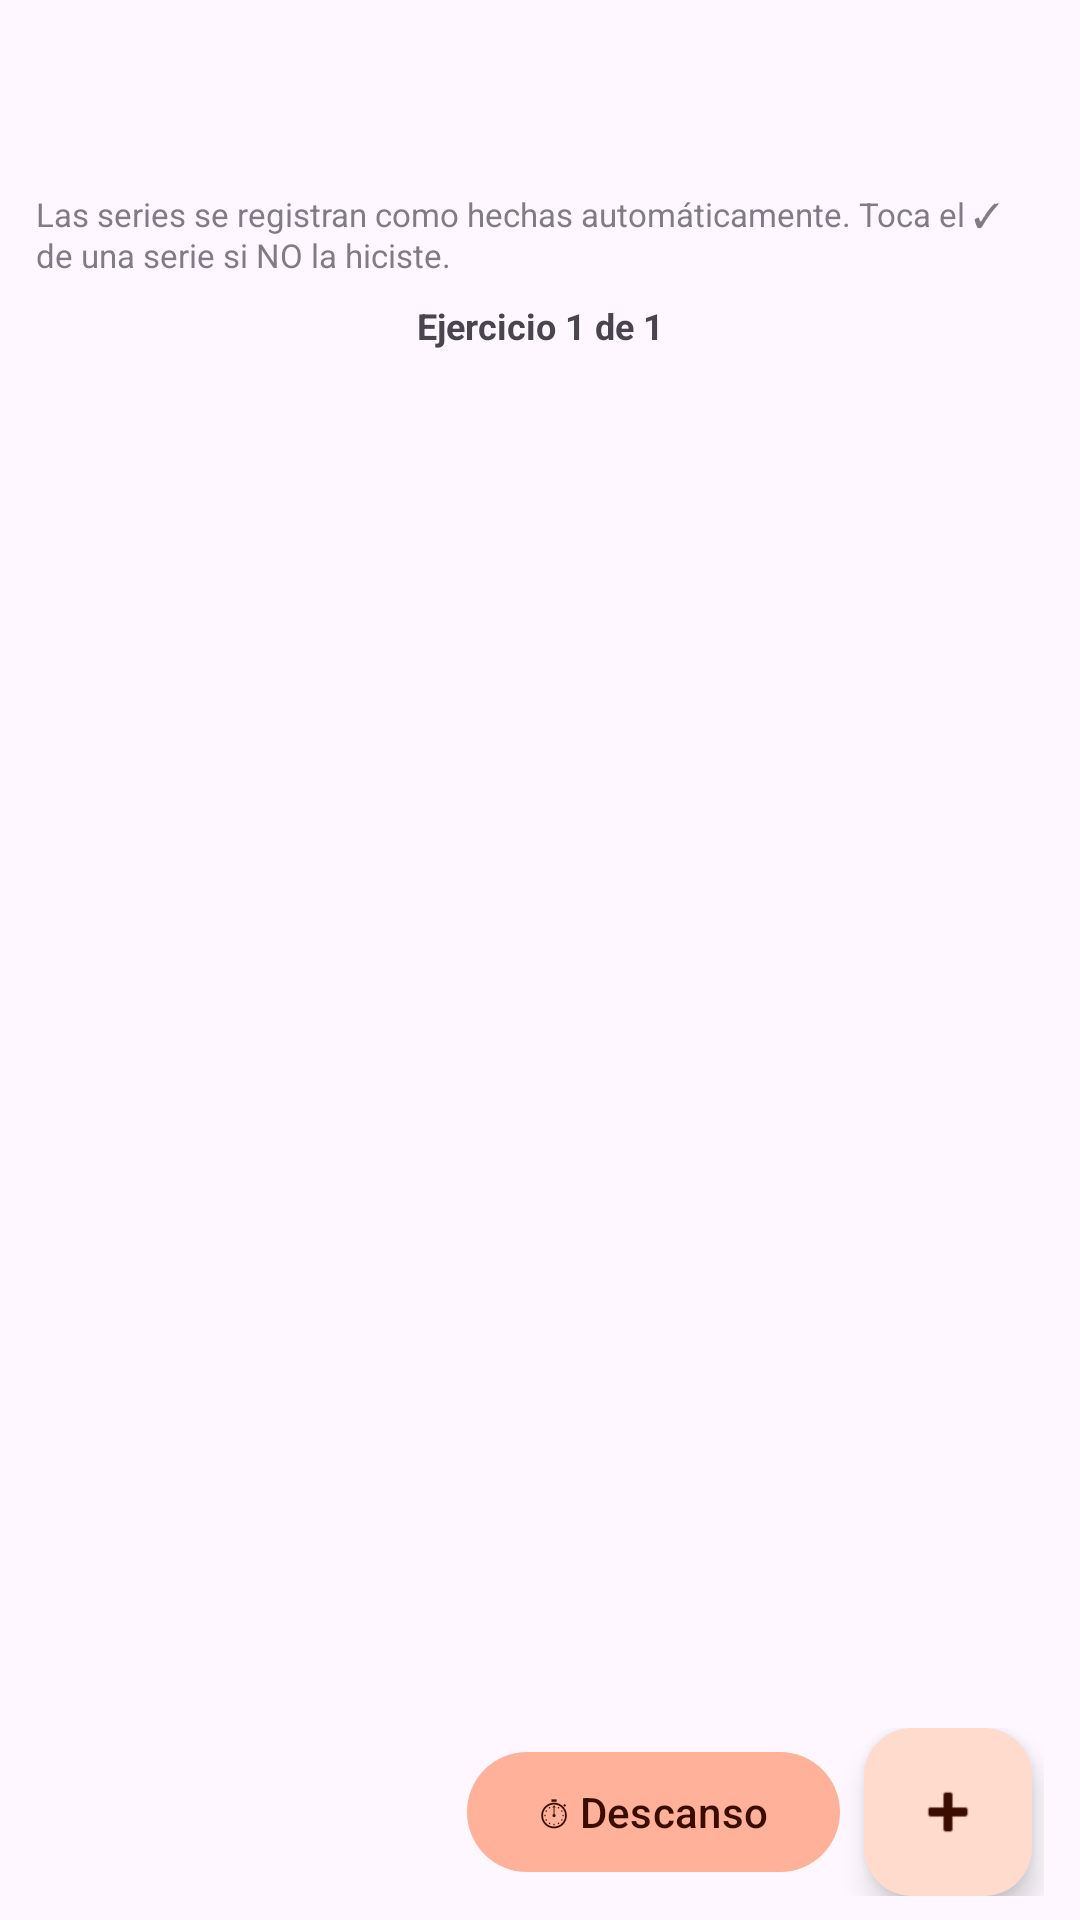

Where icons sit on this 1080×1920 app screen, as (x1, y1, x2, y2):
Agregar ejercicio a la sesión: (864, 1728, 1032, 1896)
